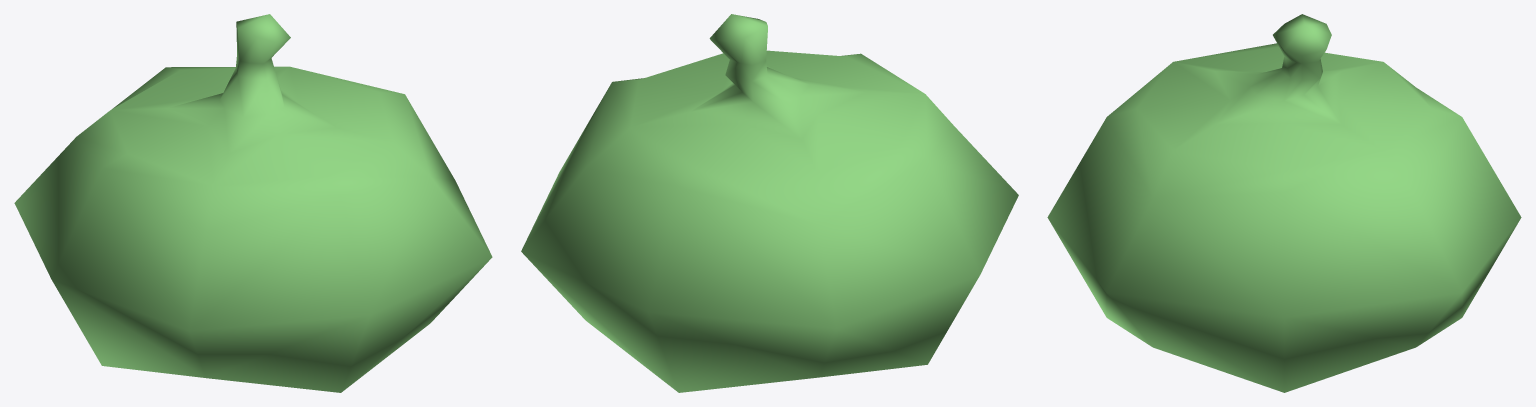
Rendered from Pumpkin.fbx.
3 views of the same model, side by side, from view 1: azimuth 30°, elevation 25°; view 2: azimuth 150°, elevation 25°; view 3: azimuth 270°, elevation 25° (orthographic). The views are drawn at different scales.
Parts seen in each view (by area): view 1: Pumpkin; view 2: Pumpkin; view 3: Pumpkin.
Boxes of the visible parts, left/top/right/bottom form: Pumpkin: left=14, top=14, right=492, bottom=392; Pumpkin: left=521, top=14, right=1018, bottom=392; Pumpkin: left=1047, top=14, right=1521, bottom=392.
Size of the model in its own units: 54.63 by 40.98 by 54.63.
